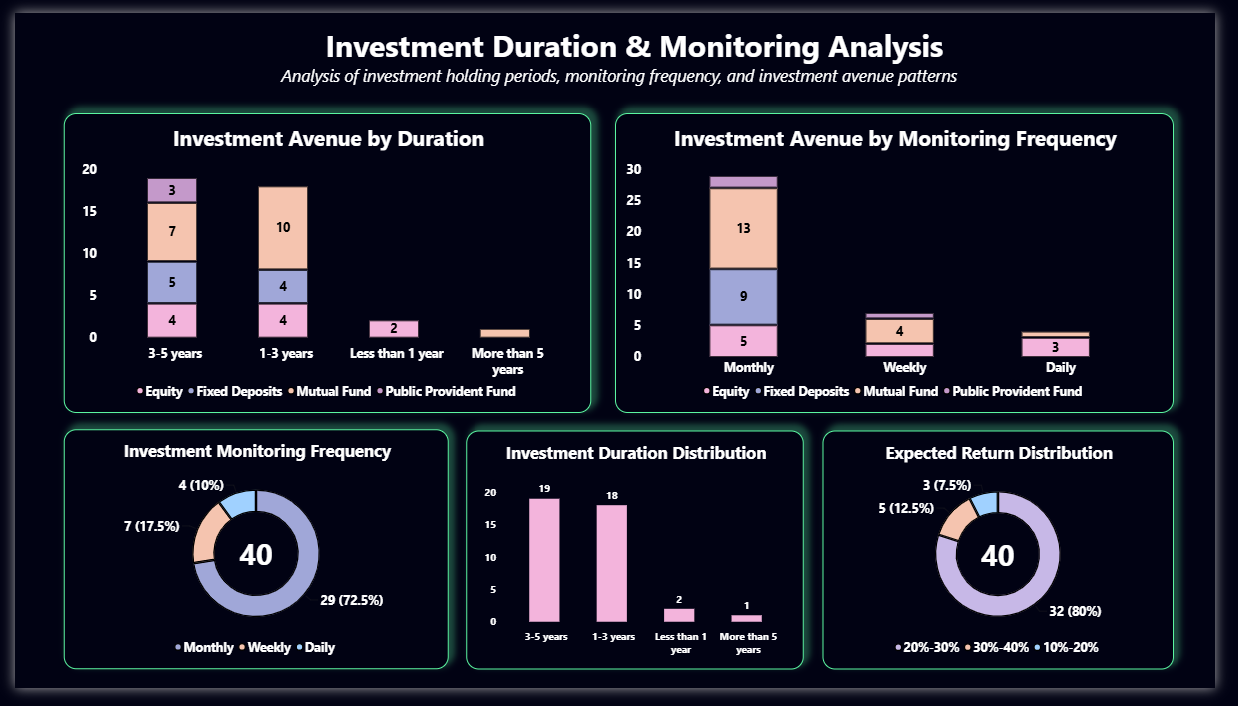

What the dashboard file says about the page in this screenshot:
{"tool":"powerbi","page":{"name":"Investment Duration and Frequency","canvas":[1920,1080],"ordinal":3},"visuals":[{"type":"textbox","box":[128,18,1726,66],"z":0},{"type":"donutChart","title":"Investment Monitoring Frequency","fields":{"Category":["Investments.Invest_Monitor"],"Y":["CountNonNull(Investments.Invest_Monitor)"]},"box":[78,666,616,384],"z":1000},{"type":"donutChart","title":"Expected Return Distribution","fields":{"Category":["Investments.Expect"],"Y":["CountNonNull(Investments.Expect)"]},"box":[1292,668,562,382],"z":2000},{"type":"clusteredColumnChart","title":"Investment Duration Distribution","fields":{"Category":["Investments.Duration"],"Y":["CountNonNull(Investments.Duration)"]},"box":[722,668,540,382],"z":3000},{"type":"columnChart","title":"Investment Avenue by Duration","fields":{"Y":["CountNonNull(Investments.Avenue)"],"Series":["Investments.Avenue"],"Category":["Investments.Duration"]},"box":[78,160,844,480],"z":4000},{"type":"columnChart","title":"Investment Avenue by Monitoring Frequency","fields":{"Y":["CountNonNull(Investments.Avenue)"],"Series":["Investments.Avenue"],"Category":["Investments.Invest_Monitor"]},"box":[960,160,894,480],"z":5000},{"type":"textbox","box":[77.5,82.5,1777.5,47.5],"z":5001}]}

Visuals, with their boxes in screenshot pixels (x1, y1, x2, y2), scaled from the page's 1920x1080 canvas onto the 1238x706 screenshot:
textbox: [83,12,1195,55]
"Investment Monitoring Frequency" donutChart: [50,435,447,686]
"Expected Return Distribution" donutChart: [833,437,1195,686]
"Investment Duration Distribution" clusteredColumnChart: [466,437,814,686]
"Investment Avenue by Duration" columnChart: [50,105,594,418]
"Investment Avenue by Monitoring Frequency" columnChart: [619,105,1195,418]
textbox: [50,54,1196,85]
